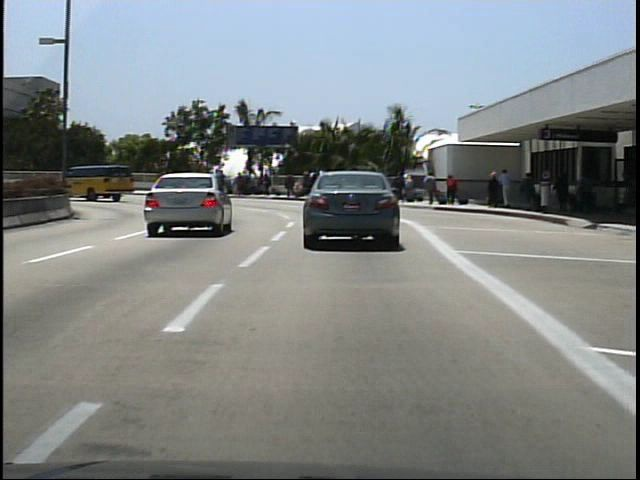person: (576, 165, 598, 218), (553, 164, 573, 215), (519, 168, 539, 213), (499, 166, 516, 210), (423, 169, 442, 207), (445, 171, 463, 209), (487, 170, 504, 210), (394, 170, 407, 205), (97, 164, 112, 193), (153, 169, 169, 194)
